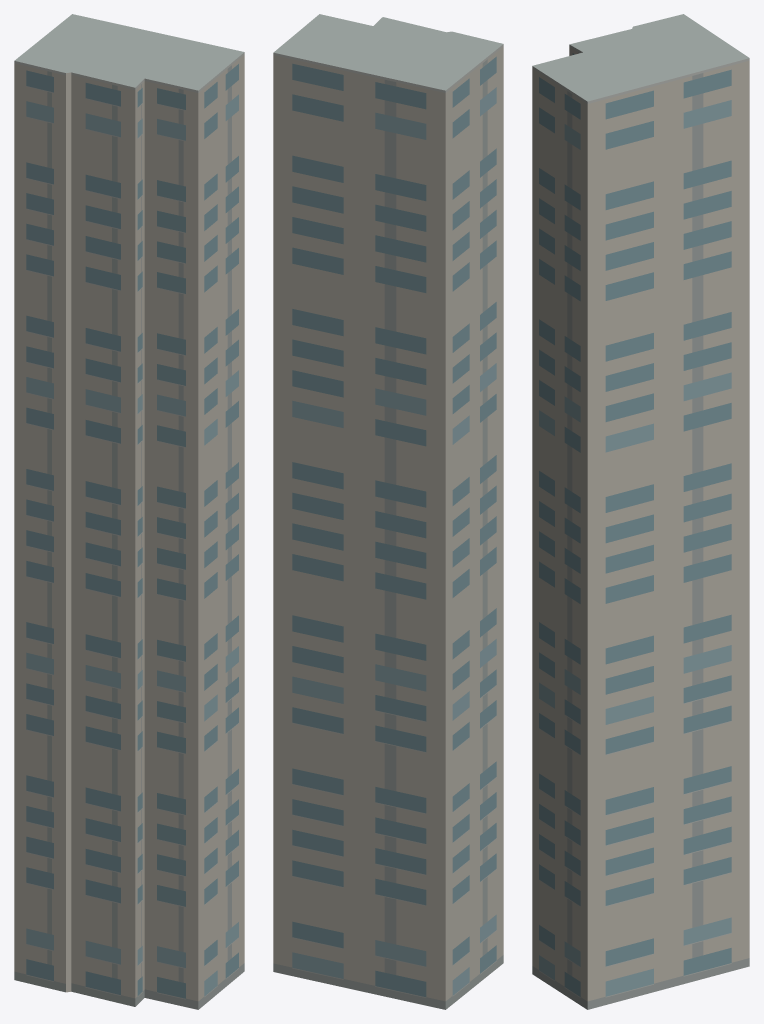
The model's file is survey-upis-32793344.glb.
3 renders of one model, left to right at view 1: azimuth 30°, elevation 25°; view 2: azimuth 210°, elevation 25°; view 3: azimuth 270°, elevation 25°, orthographic.
Visible parts, largest first — view 1: survey-upis-32793344.tmp; view 2: survey-upis-32793344.tmp; view 3: survey-upis-32793344.tmp.
Boxes of the visible parts, box(x1,y1,x2,y2) form: survey-upis-32793344.tmp: box(14, 14, 244, 1009); survey-upis-32793344.tmp: box(273, 14, 503, 1009); survey-upis-32793344.tmp: box(532, 14, 749, 1009).
Size of the model in its own units: 18.94 by 91.5 by 19.87.
